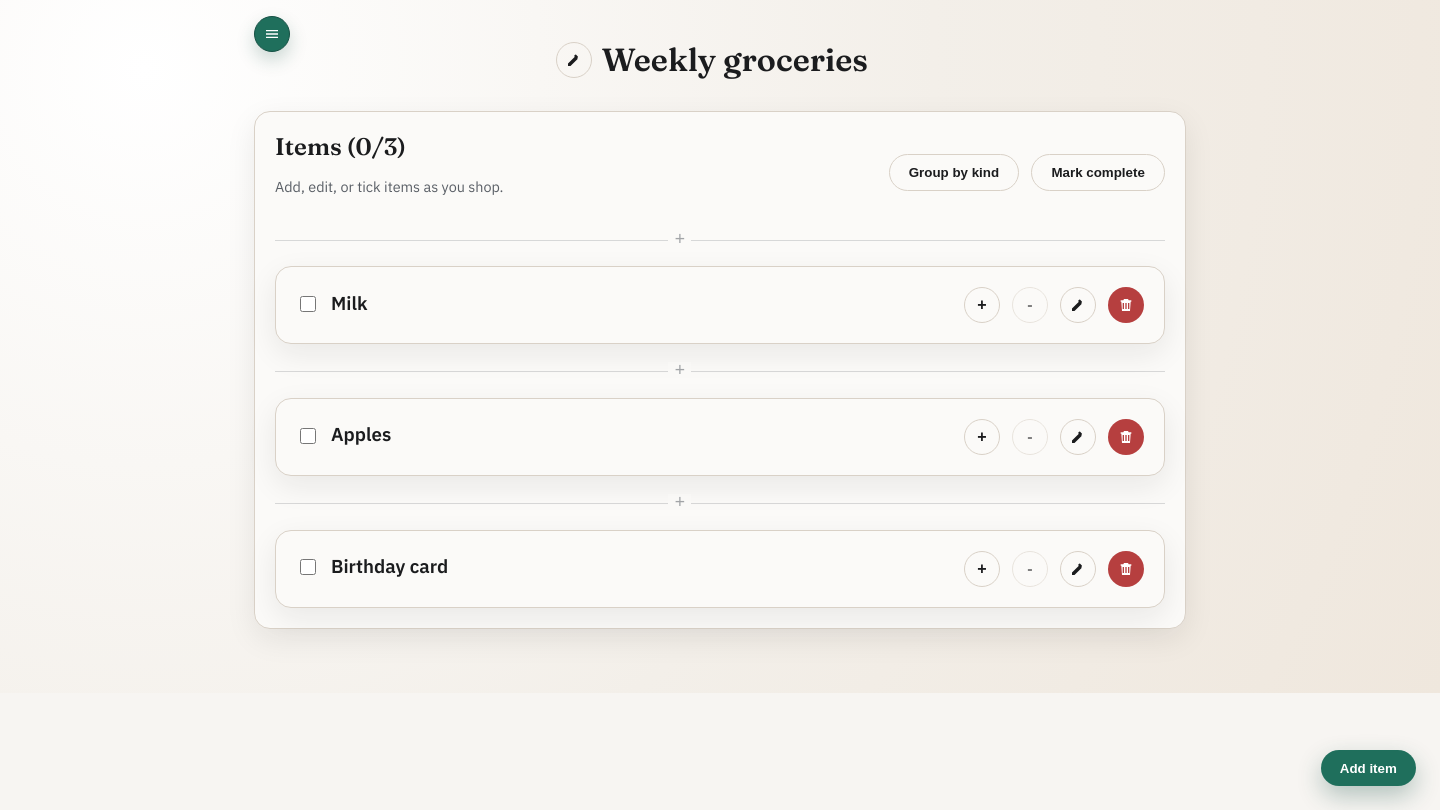
Test: Group by kind on a list › offers to send unmatched names and sends only on confirm
This screenshot has width=1440, height=810.
Click the button "Group by kind". click: (954, 172)
box: [889,154,1019,191]
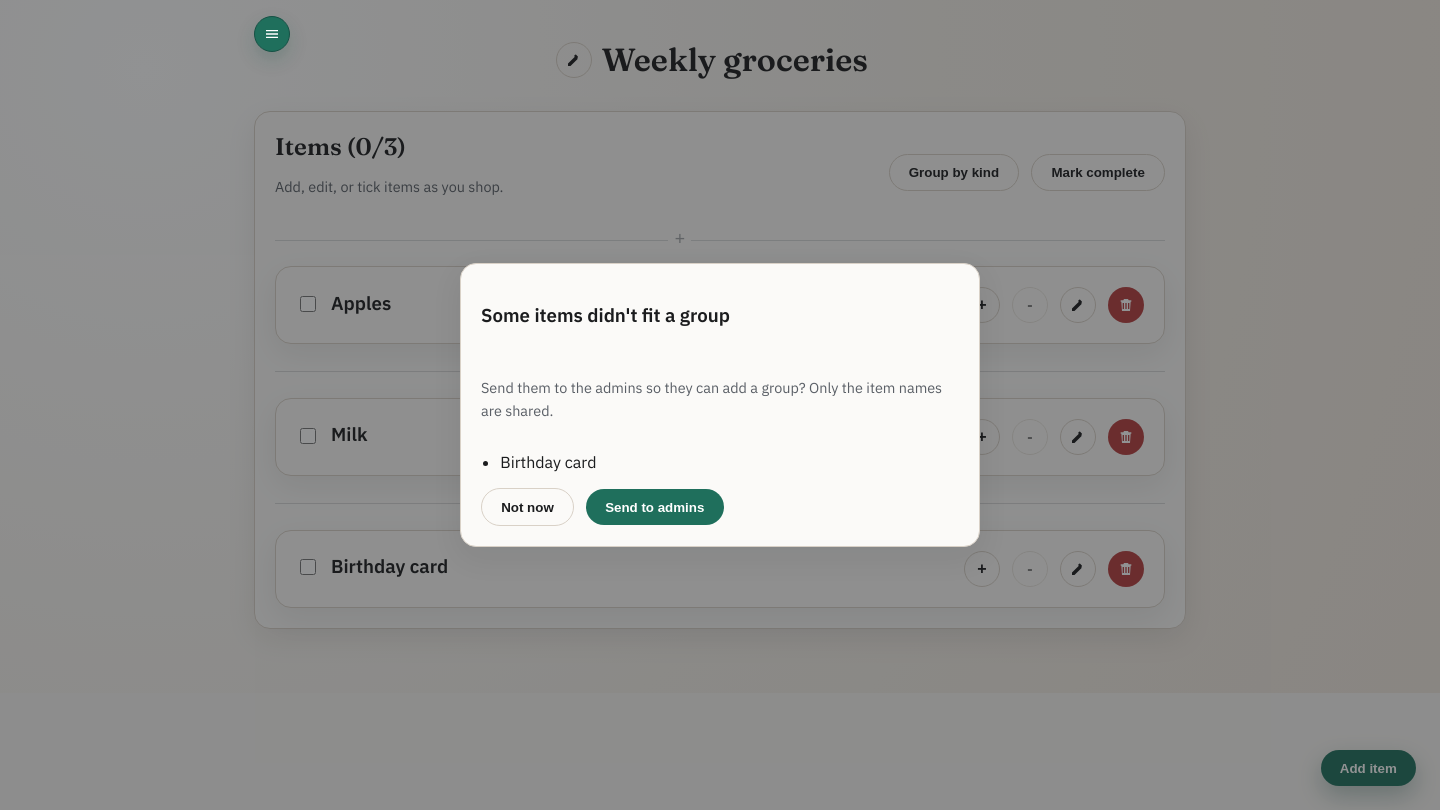
Expected: the dialog shows "Birthday card", [500,452,596,472]
Click the button "Not now". click: (527, 507)
box: [481,488,574,526]
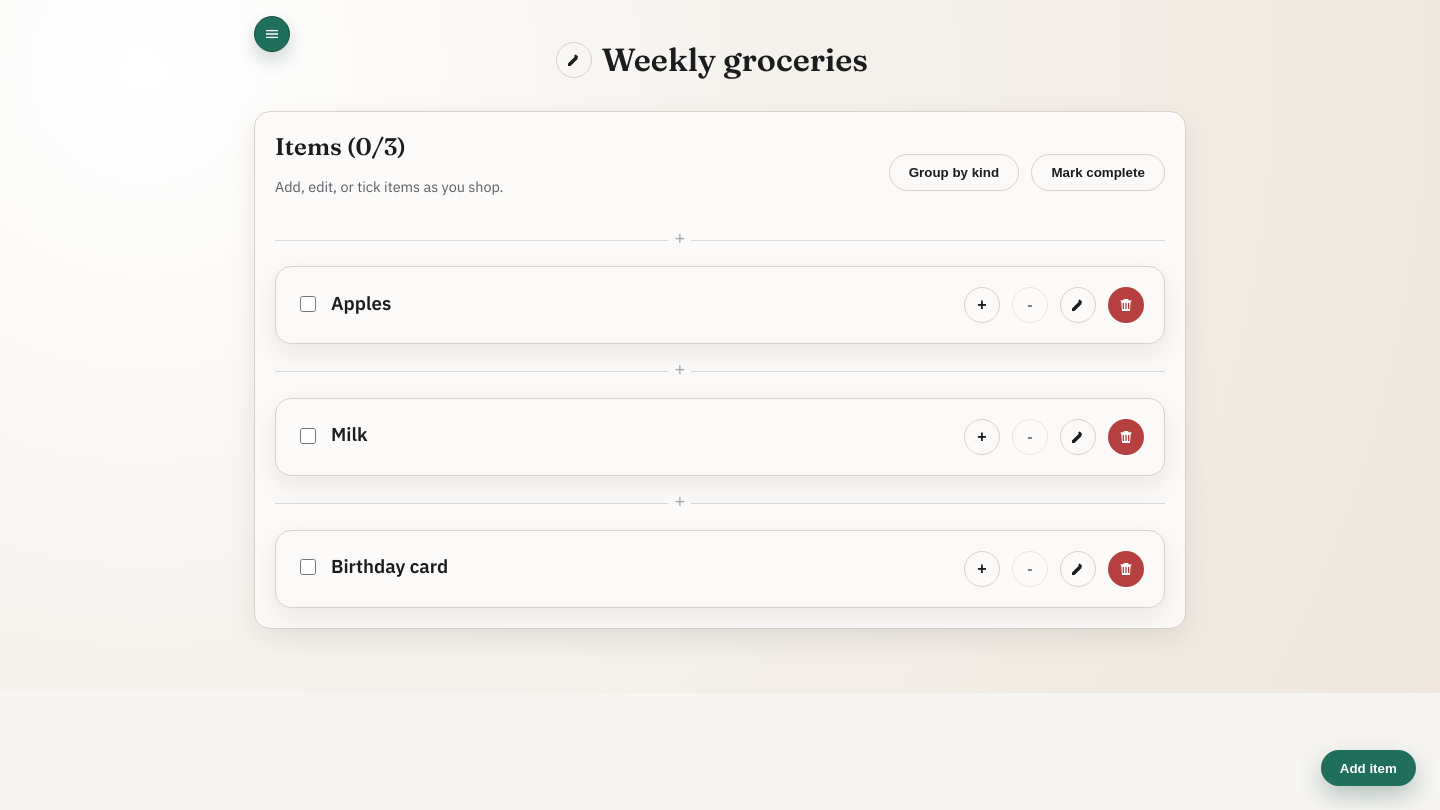
Expected: the dialog is gone
Click the button "Group by kind". click: (954, 172)
box: [889,154,1019,191]
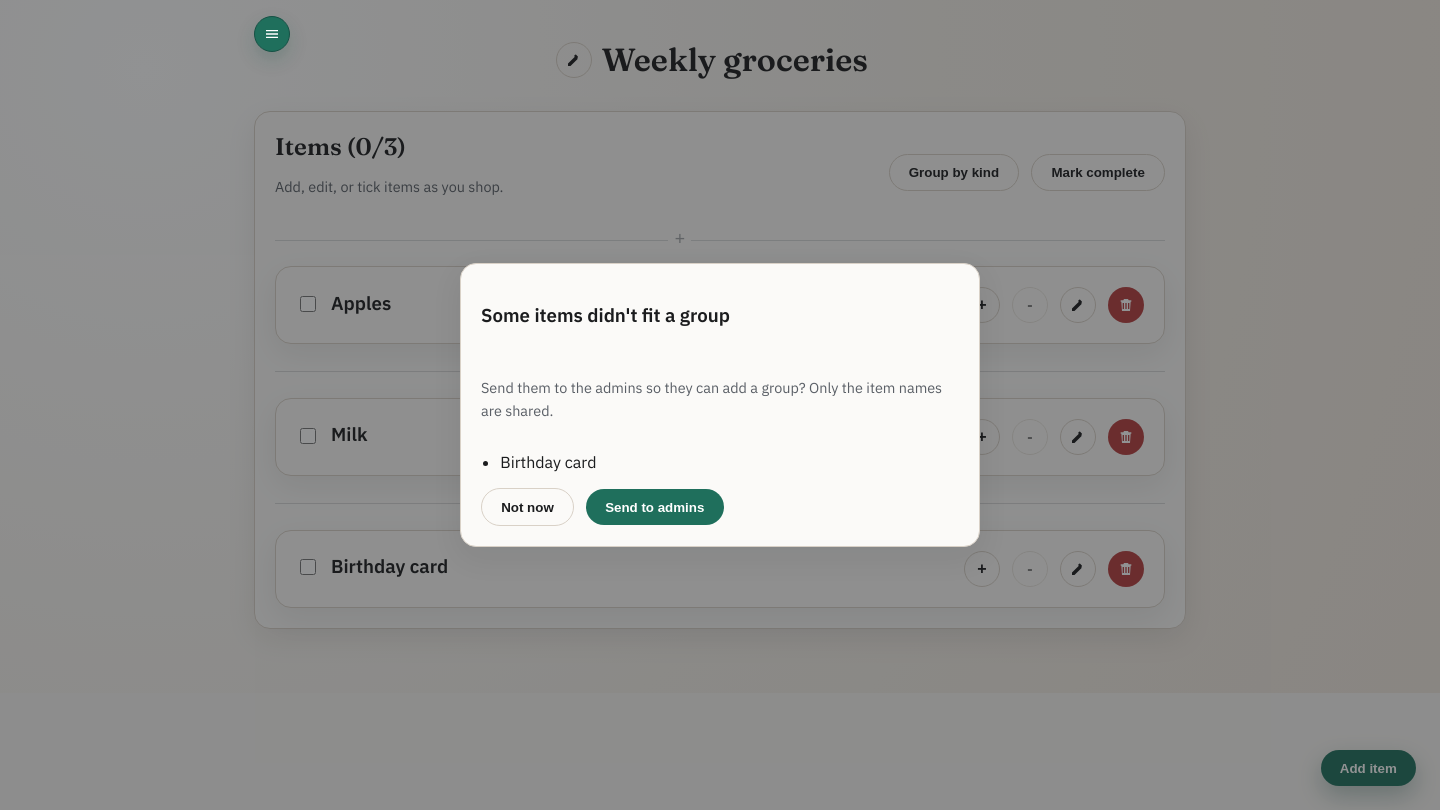
Expected: the dialog is shown, [460,263,980,547]
Click the button "Send to admins". click: (655, 507)
box: [586,489,724,525]
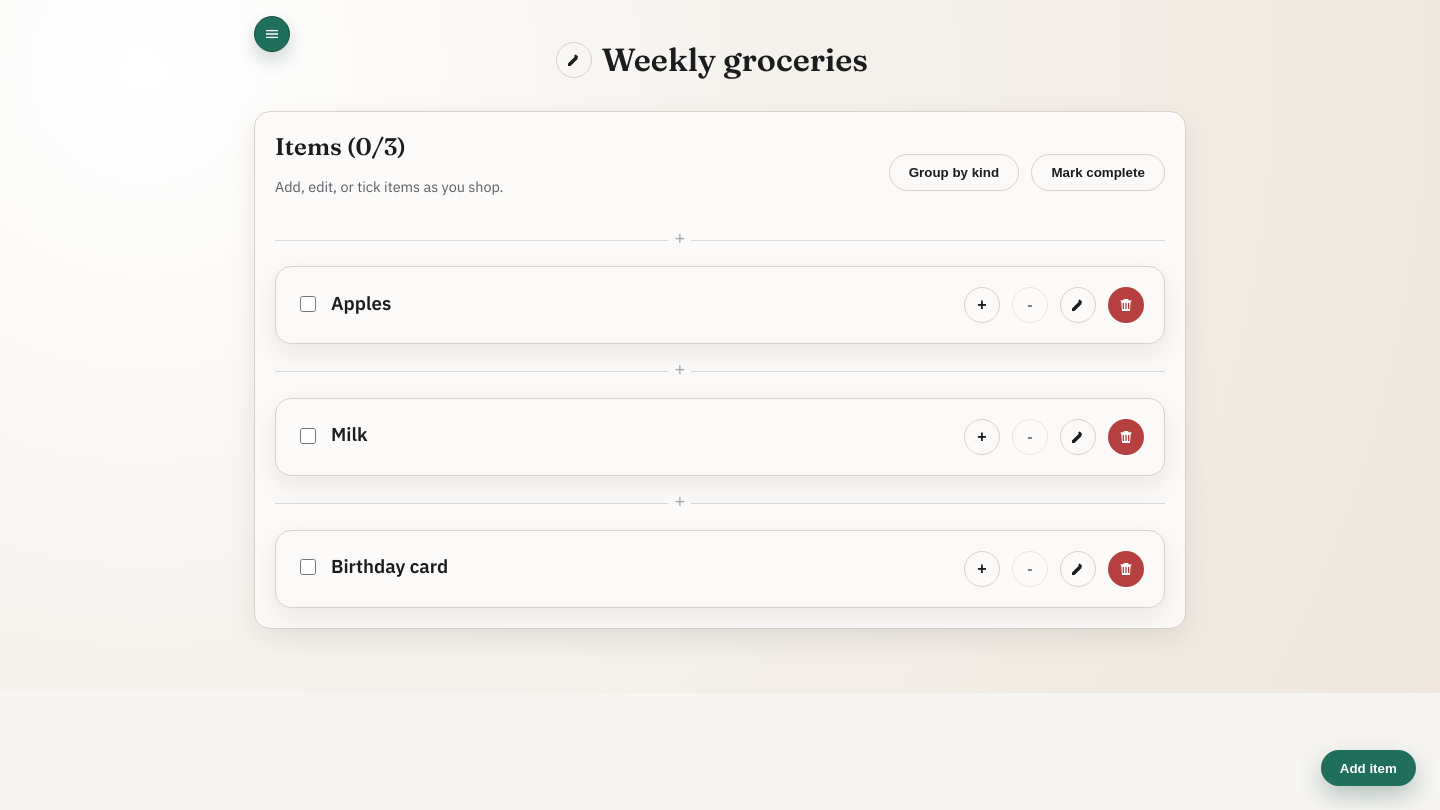
Expected: the dialog is gone
